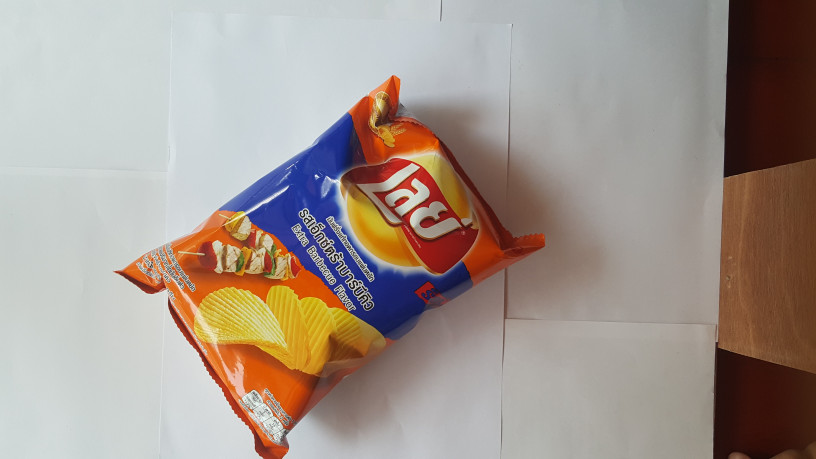lays-bbq: (104, 77, 545, 459)
